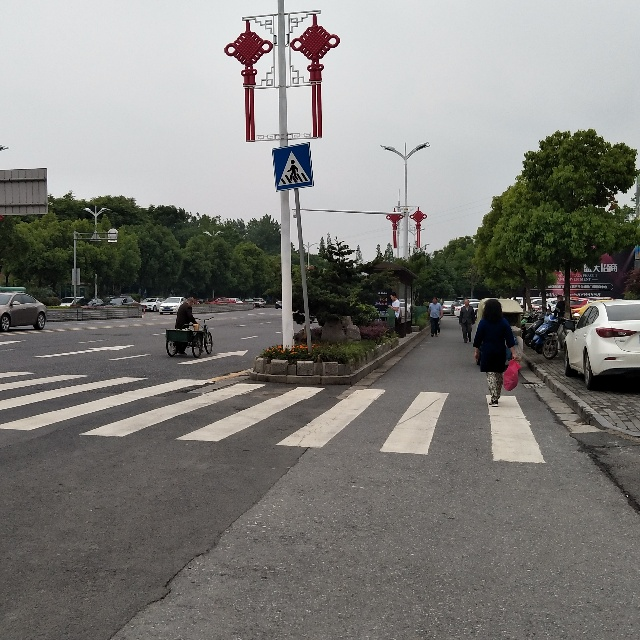crosswalk: (272, 142, 314, 192)
